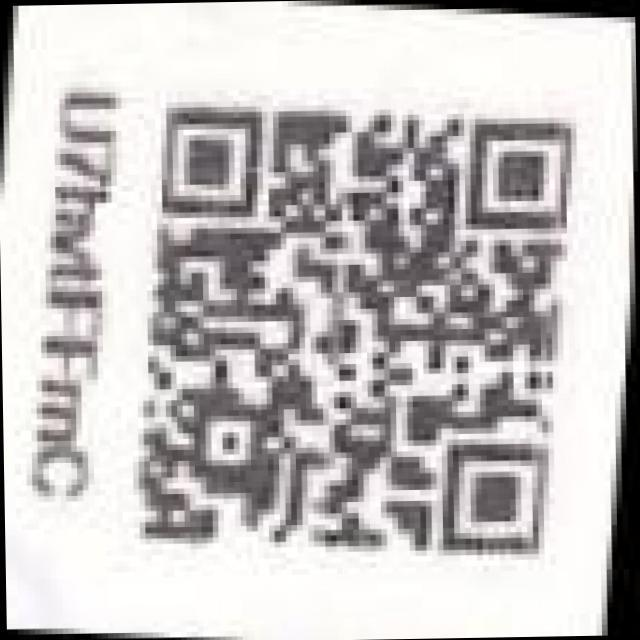QRCode: (120, 80, 606, 584)
